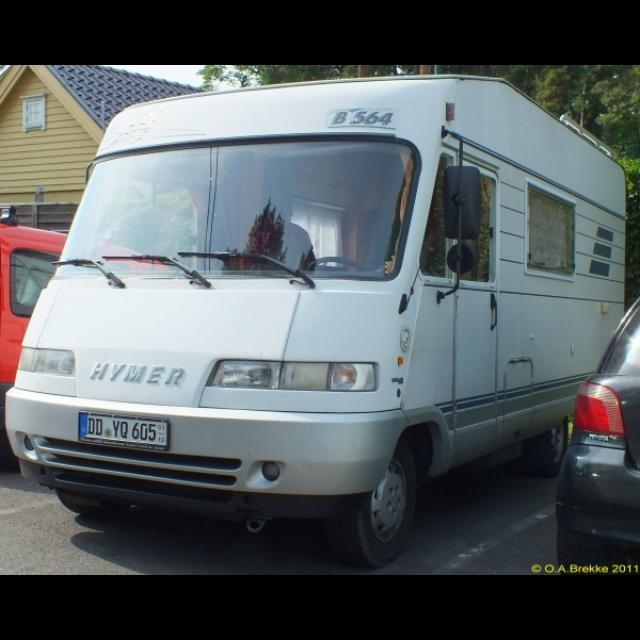license-plates: (78, 413, 167, 450)
